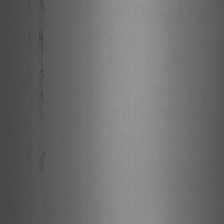inclusion: (35, 0, 50, 179)
